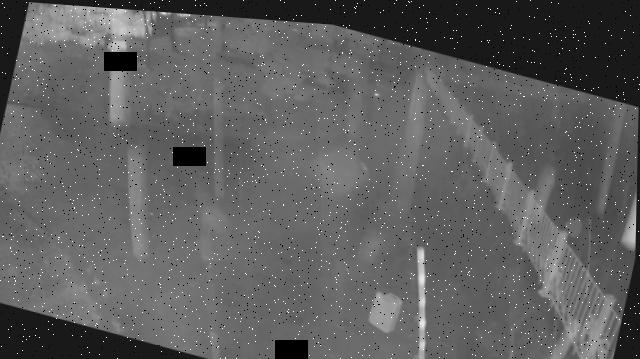bag: (367, 280, 405, 328)
